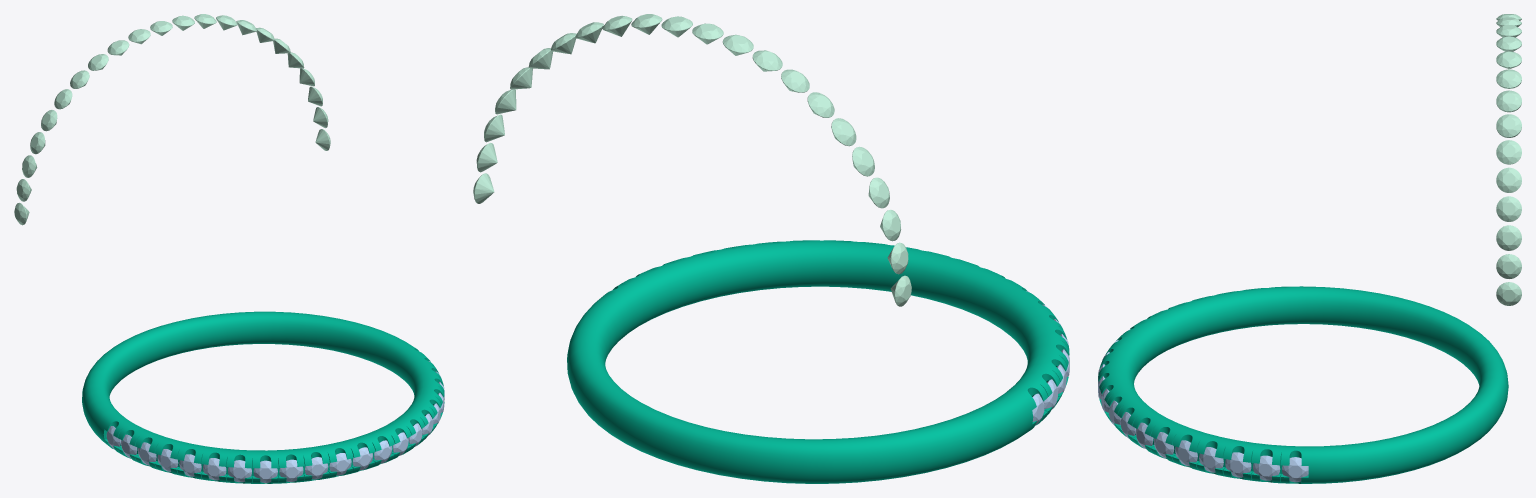
3 views of the same model, side by side, from view 1: azimuth 30°, elevation 25°; view 2: azimuth 150°, elevation 25°; view 3: azimuth 270°, elevation 25° (orthographic). The views are drawn at different scales.
Parts seen in each view (by area): view 1: SIZE R RPT(base).3dm; view 2: SIZE R RPT(base).3dm; view 3: SIZE R RPT(base).3dm, Diamond_Round (×10).
Part boxes in pixels (bbox=[...]): SIZE R RPT(base).3dm: bbox=[82, 311, 444, 483]; SIZE R RPT(base).3dm: bbox=[567, 240, 1069, 483]; SIZE R RPT(base).3dm: bbox=[1098, 286, 1508, 483]; Diamond_Round (×10): bbox=[1225, 114, 1521, 482].
Size of the model in its own units: 2.82 by 2.8 by 2.91.
